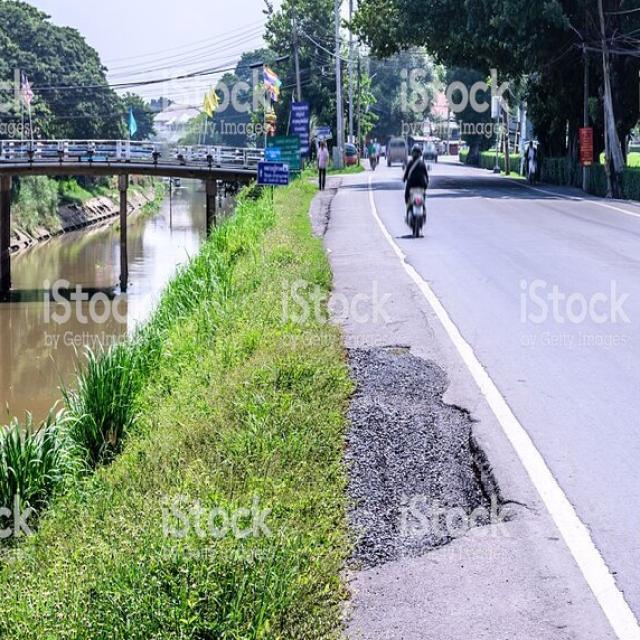Pinggir: (290, 336, 545, 640)
